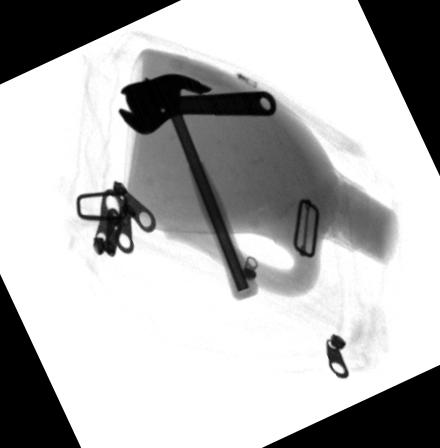Hammer: (124, 73, 259, 301)
Wrench: (116, 77, 277, 136)
